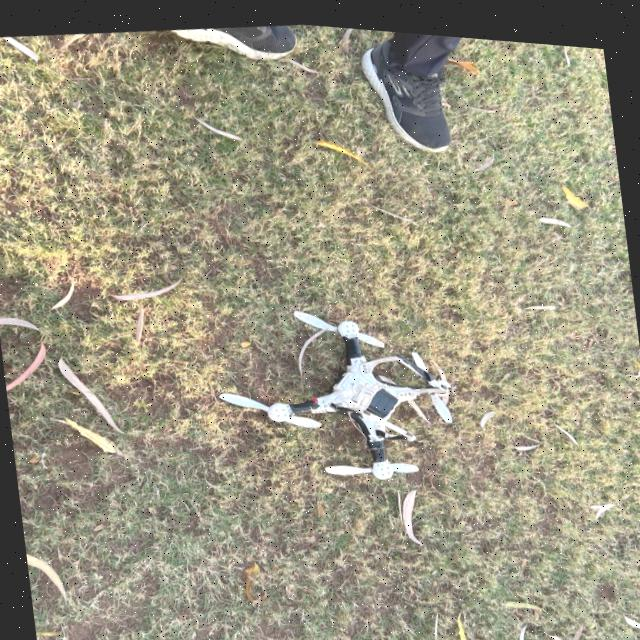drone: (226, 278, 474, 496)
